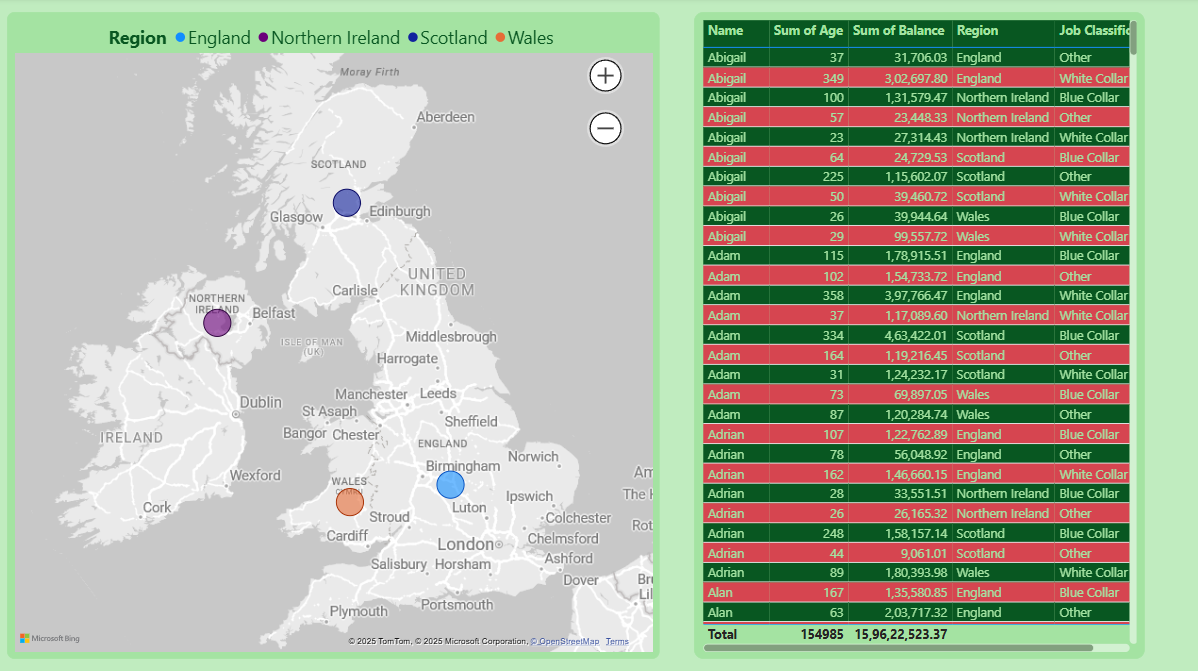

The dashboard page shown, as its layout file describes it:
{"tool":"powerbi","page":{"name":"Page 2","canvas":[1280,720],"ordinal":1},"visuals":[{"type":"map","fields":{"Category":["P6-UK-Bank-Customers.Region"],"Series":["P6-UK-Bank-Customers.Region"]},"box":[10,16,692,686],"z":0},{"type":"tableEx","fields":{"Values":["P6-UK-Bank-Customers.Name","P6-UK-Bank-Customers.Age","P6-UK-Bank-Customers.Balance","P6-UK-Bank-Customers.Region","P6-UK-Bank-Customers.Job Classification"]},"box":[738,16,478,686],"z":1000}]}

Visuals, with their boxes in screenshot pixels (x1, y1, x2, y2), scaled from the page's 1280x720 canvas onto the 1198x671 screenshot:
map - P6-UK-Bank-Customers.Region x P6-UK-Bank-Customers.Region: <bbox>9, 15, 657, 654</bbox>
tableEx - P6-UK-Bank-Customers.Name x P6-UK-Bank-Customers.Age: <bbox>691, 15, 1138, 654</bbox>
